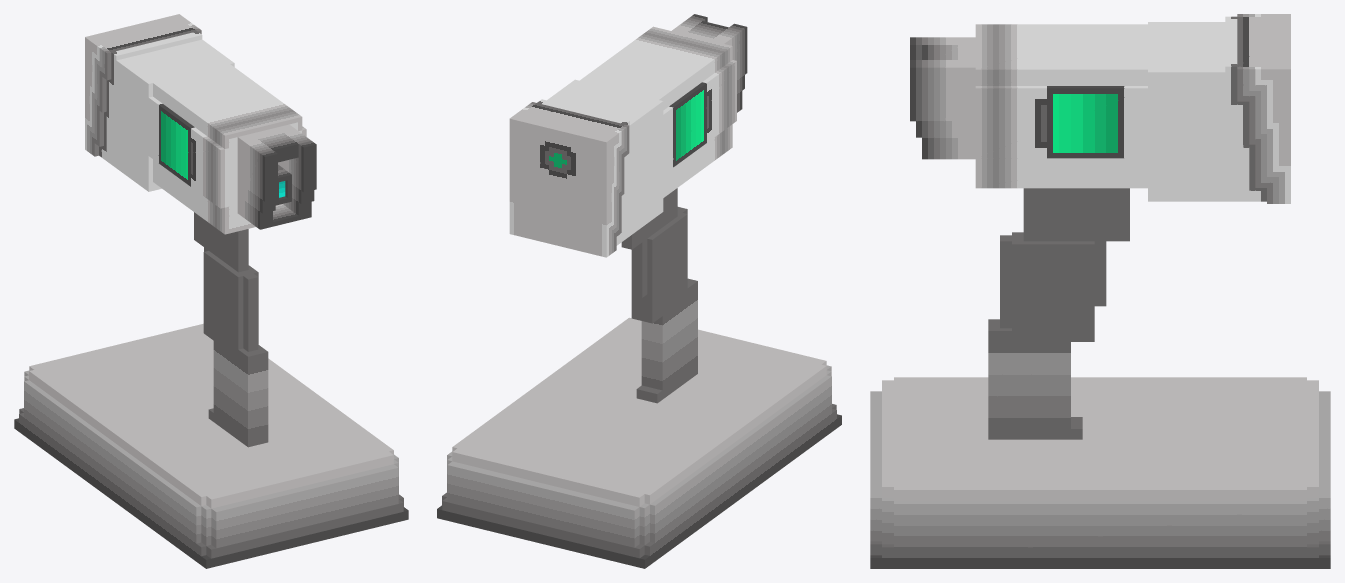
Rendered from 电磁炮台1级.gltf.
3 views of the same model, side by side, from view 1: azimuth 30°, elevation 25°; view 2: azimuth 150°, elevation 25°; view 3: azimuth 270°, elevation 25° (orthographic). The views are drawn at different scales.
Parts seen in each view (by area): view 1: Group; view 2: Group; view 3: Group.
Boxes of the visible parts, box(x1,y1,x2,y2) form: Group: box(14, 14, 408, 568); Group: box(437, 14, 841, 568); Group: box(870, 14, 1330, 568).
Size of the model in its own units: 47.15 by 86.82 by 77.39.
Materials: 1 (1 with a texture image).
